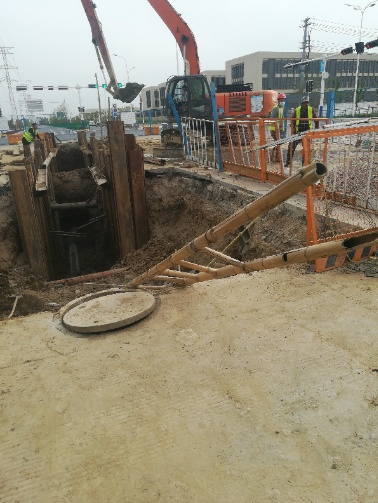uncovered: (51, 287, 158, 336)
